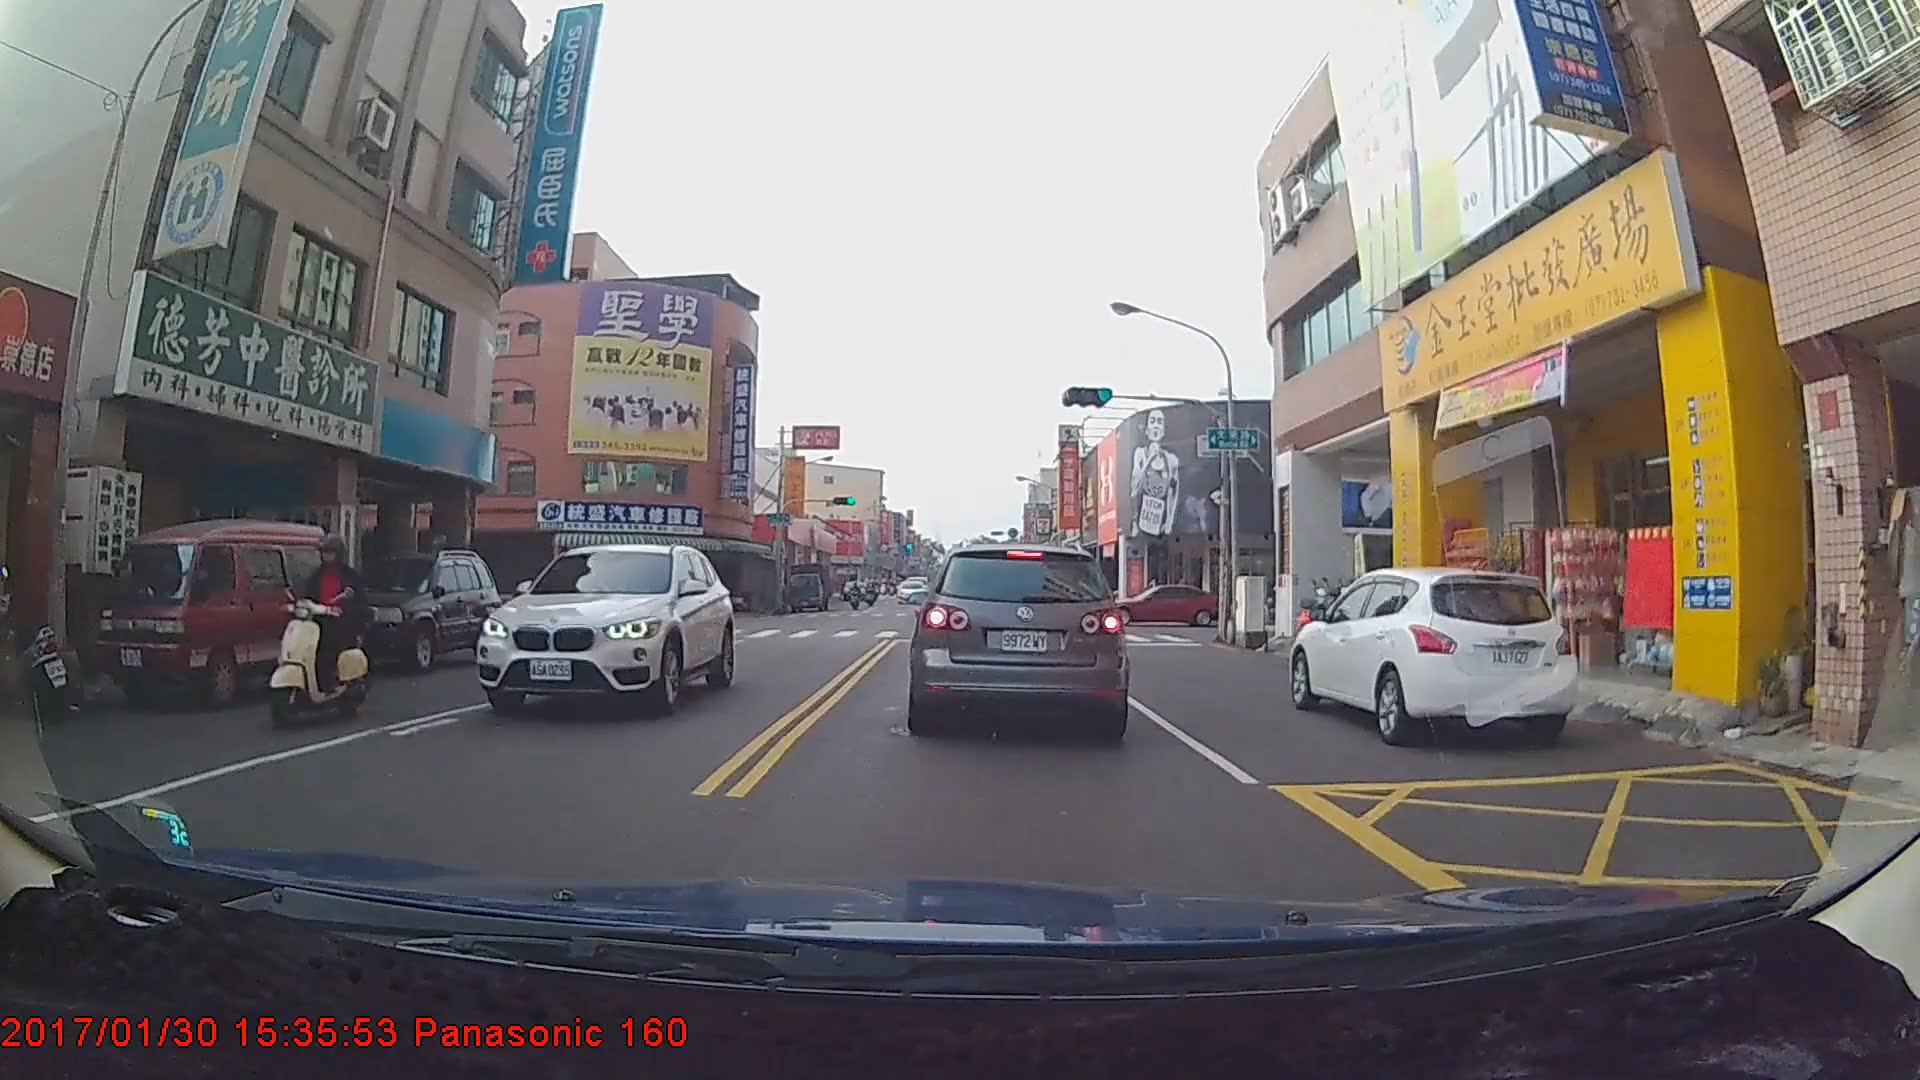rider: (269, 532, 380, 734), (845, 576, 865, 611), (847, 576, 867, 605)
vehicle: (1288, 569, 1578, 750), (473, 543, 740, 716), (102, 522, 347, 701), (913, 538, 1124, 737), (313, 550, 500, 676), (1103, 583, 1221, 629), (781, 561, 833, 611), (896, 580, 927, 605)
